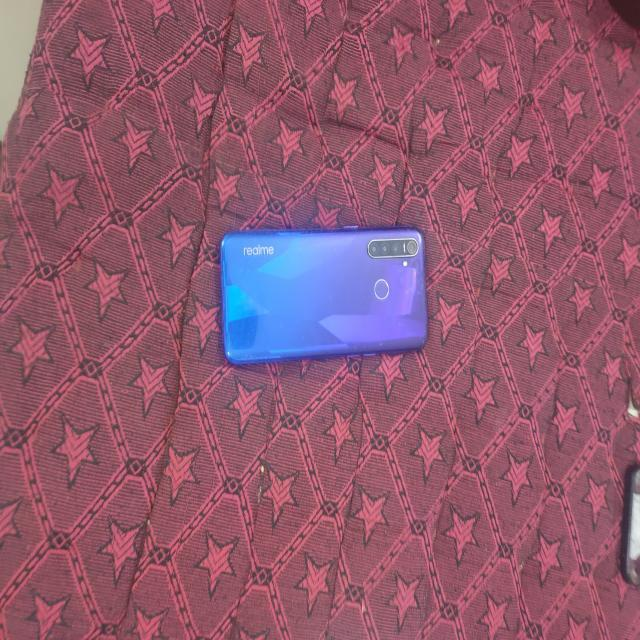Phone: (213, 224, 432, 370)
